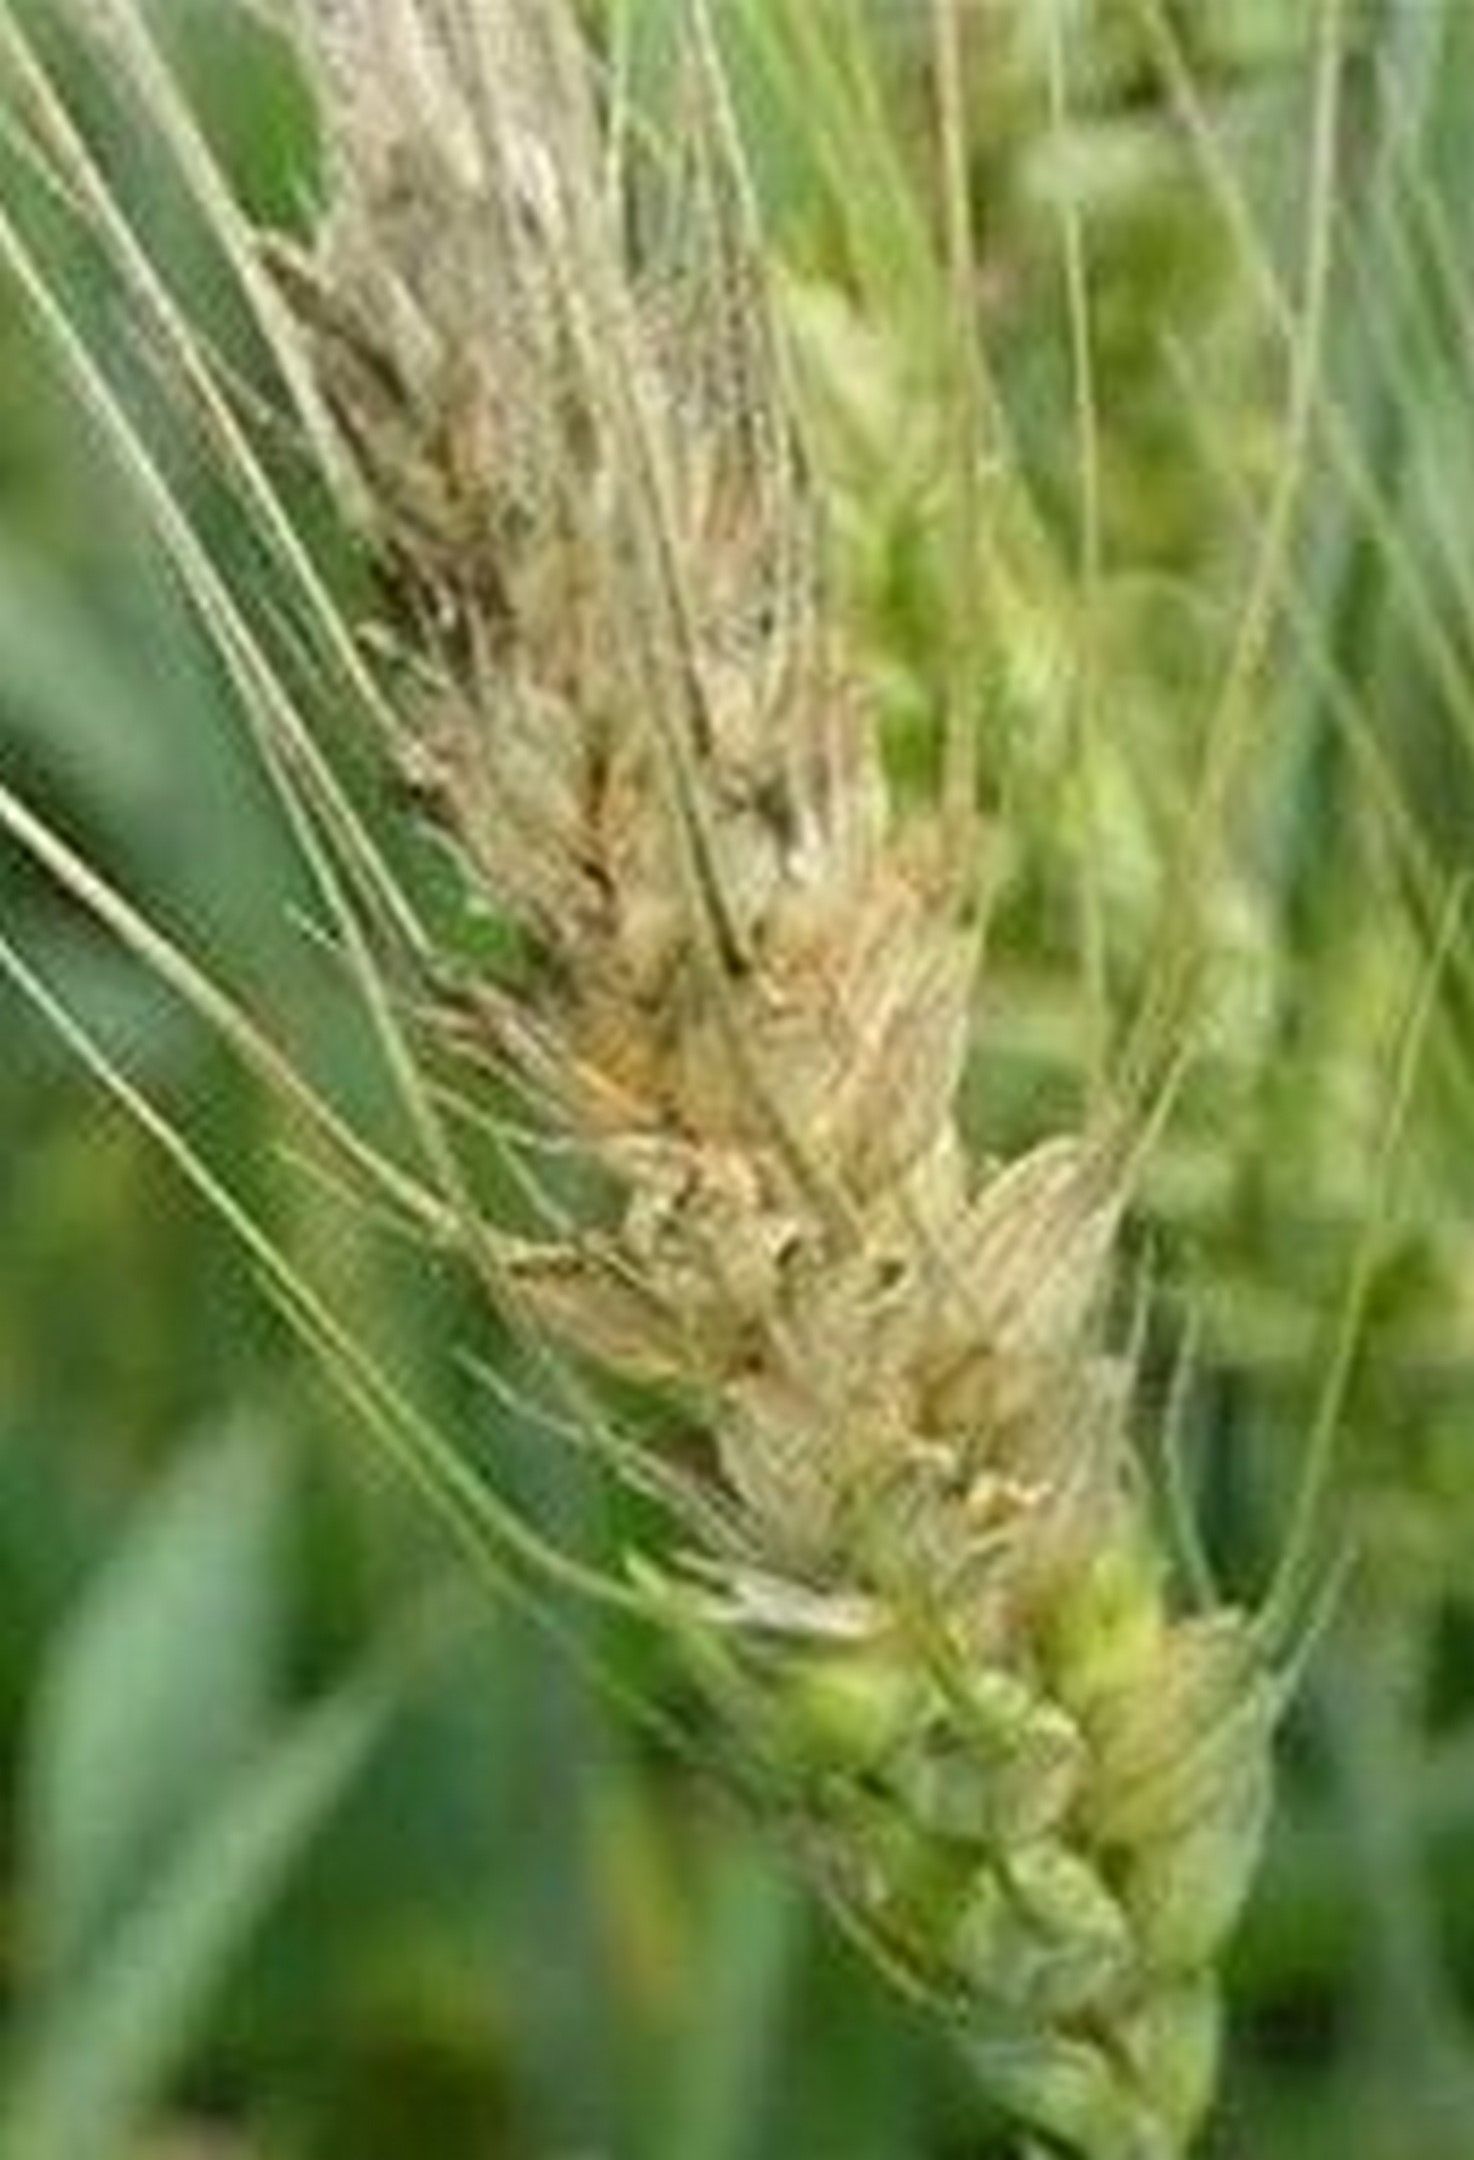Wheat scab: (240, 72, 1343, 2057)
